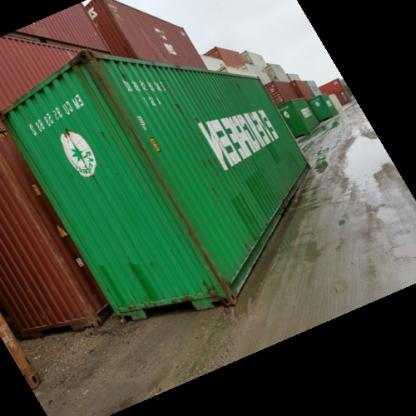Damage: (77, 45, 160, 180), (160, 176, 229, 298)
